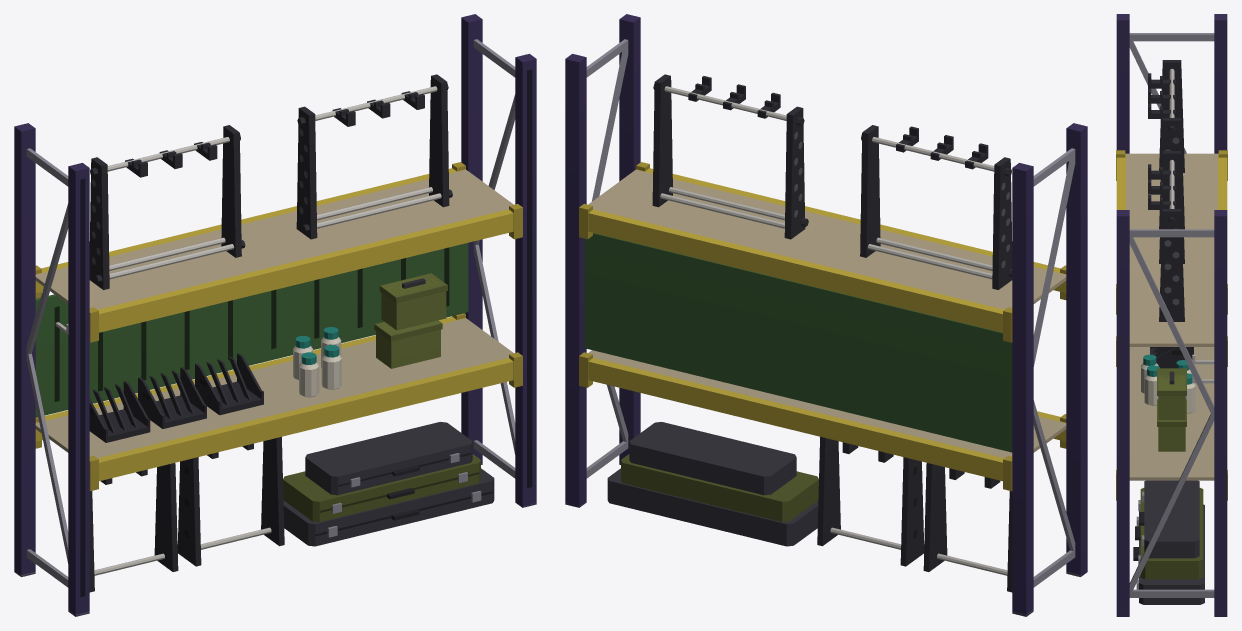
File: kit_rack.glb
3 renders of one model, left to right at view 1: azimuth 30°, elevation 25°; view 2: azimuth 150°, elevation 25°; view 3: azimuth 270°, elevation 25°, orthographic. The views are drawn at different scales.
Parts seen in each view (by area): view 1: kit_rack; view 2: kit_rack; view 3: kit_rack.
Boxes of the visible parts, x1,y1,x2,y2 form: kit_rack: (14, 14, 536, 616); kit_rack: (565, 14, 1087, 616); kit_rack: (1116, 14, 1227, 616).
Size of the model in its own units: 2.6 by 2.4 by 0.608.
